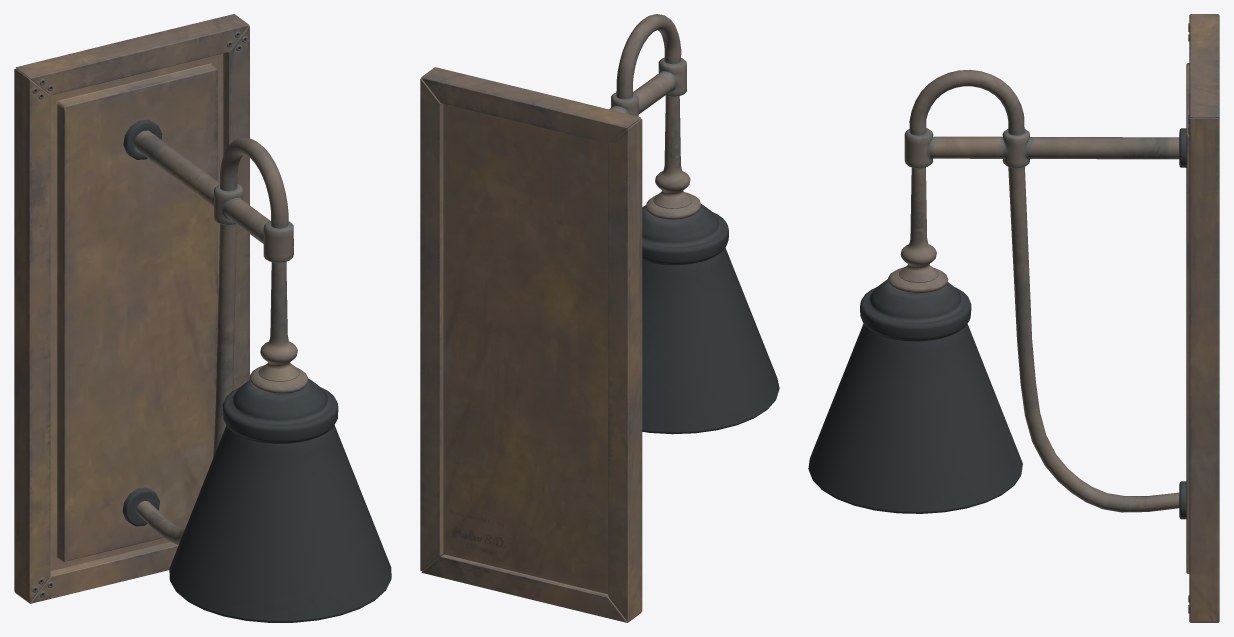
File: industrial_wall_sconce.glb
3 views of the same model, side by side, from view 1: azimuth 30°, elevation 25°; view 2: azimuth 150°, elevation 25°; view 3: azimuth 270°, elevation 25° (orthographic). The views are drawn at different scales.
Parts seen in each view (by area): view 1: industrial_wall_sconce; view 2: industrial_wall_sconce; view 3: industrial_wall_sconce.
Boxes of the visible parts, box(x1,y1,x2,y2) form: industrial_wall_sconce: box(14, 14, 391, 622); industrial_wall_sconce: box(420, 14, 779, 622); industrial_wall_sconce: box(808, 14, 1219, 622).
Size of the model in its own units: 0.1503 by 0.3418 by 0.2516.
Materials: 2 (2 with a texture image).
